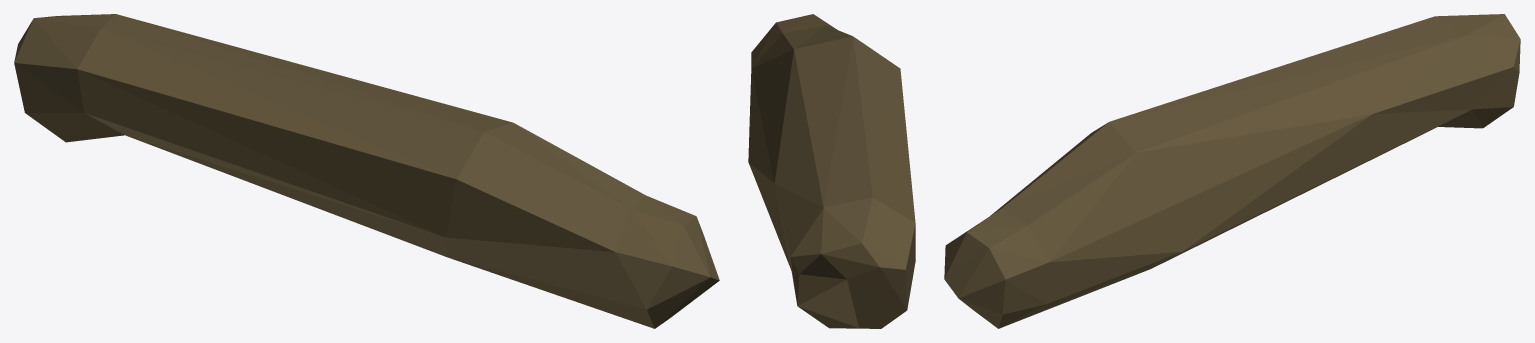
The model's file is ant-femur-front-left.dae.
3 views of the same model, side by side, from view 1: azimuth 30°, elevation 25°; view 2: azimuth 150°, elevation 25°; view 3: azimuth 270°, elevation 25° (orthographic). The views are drawn at different scales.
Parts seen in each view (by area): view 1: ant-femur-front-left; view 2: ant-femur-front-left; view 3: ant-femur-front-left.
Part boxes in pixels (left/top/right/bottom): ant-femur-front-left: left=14, top=14, right=719, bottom=328; ant-femur-front-left: left=748, top=14, right=915, bottom=328; ant-femur-front-left: left=944, top=14, right=1520, bottom=328.
Size of the model in its own units: 2.51 by 3.32 by 1.08.
